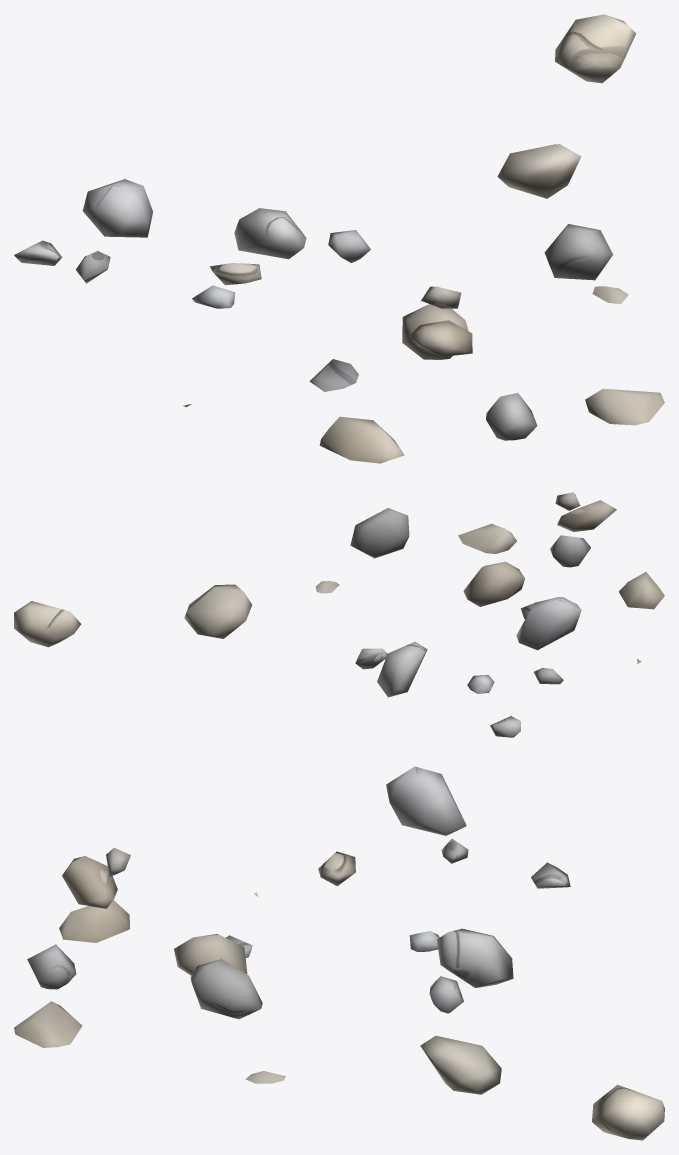
Rendered from gravel_b.glb.
3 renders of one model, top to bottom at view 1: azimuth 30°, elevation 25°; view 2: azimuth 150°, elevation 25°; view 3: azimuth 270°, elevation 25°, orthographic. The views are drawn at different scales.
Parts seen in each view (by area): view 1: tint_stones; view 2: tint_stones; view 3: tint_stones.
Part boxes in pixels (x1,y1,x2,y2): tint_stones: [14, 14, 664, 463]; tint_stones: [14, 492, 664, 737]; tint_stones: [14, 766, 664, 1140].
Bounding box in the file's own units: 0.4626 × 0.1027 × 0.4416.
Materials: 1 (1 with a texture image).
